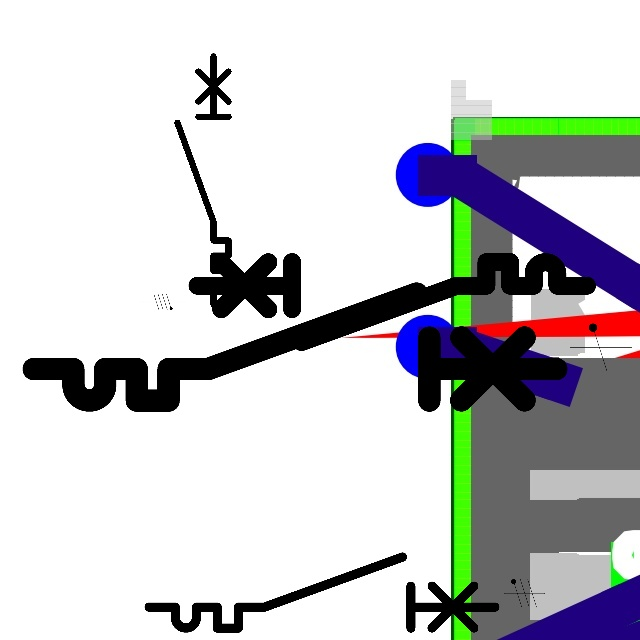interruptor_termomagnetico: (20, 280, 569, 414), (187, 252, 597, 352), (140, 548, 504, 637), (171, 50, 235, 311)
